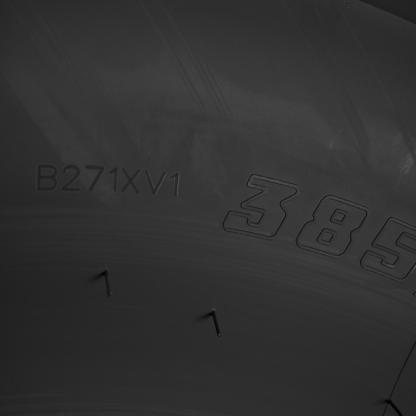ocr: (36, 162, 181, 200)
